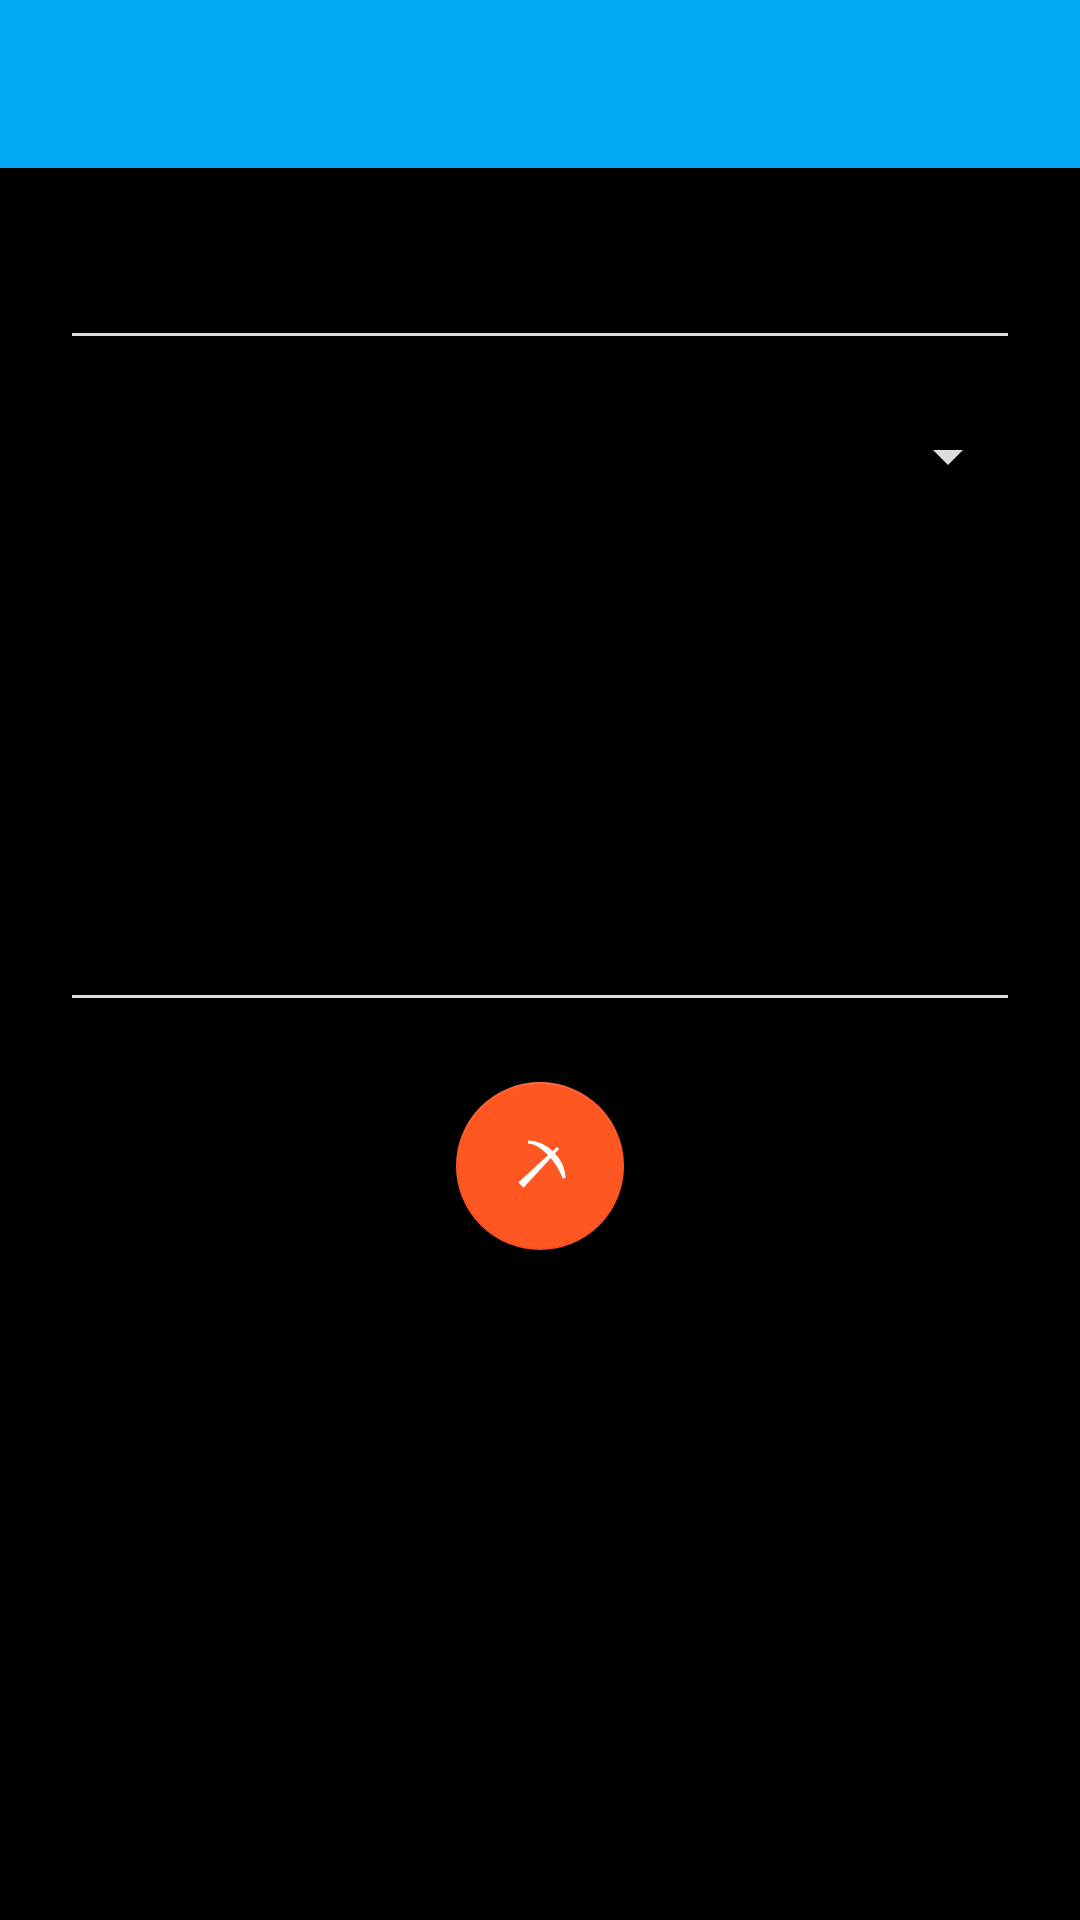

Point at icon controls on the screen. Image size 1080px x 1920px, points as (x,y).
mine: (540,1166)
